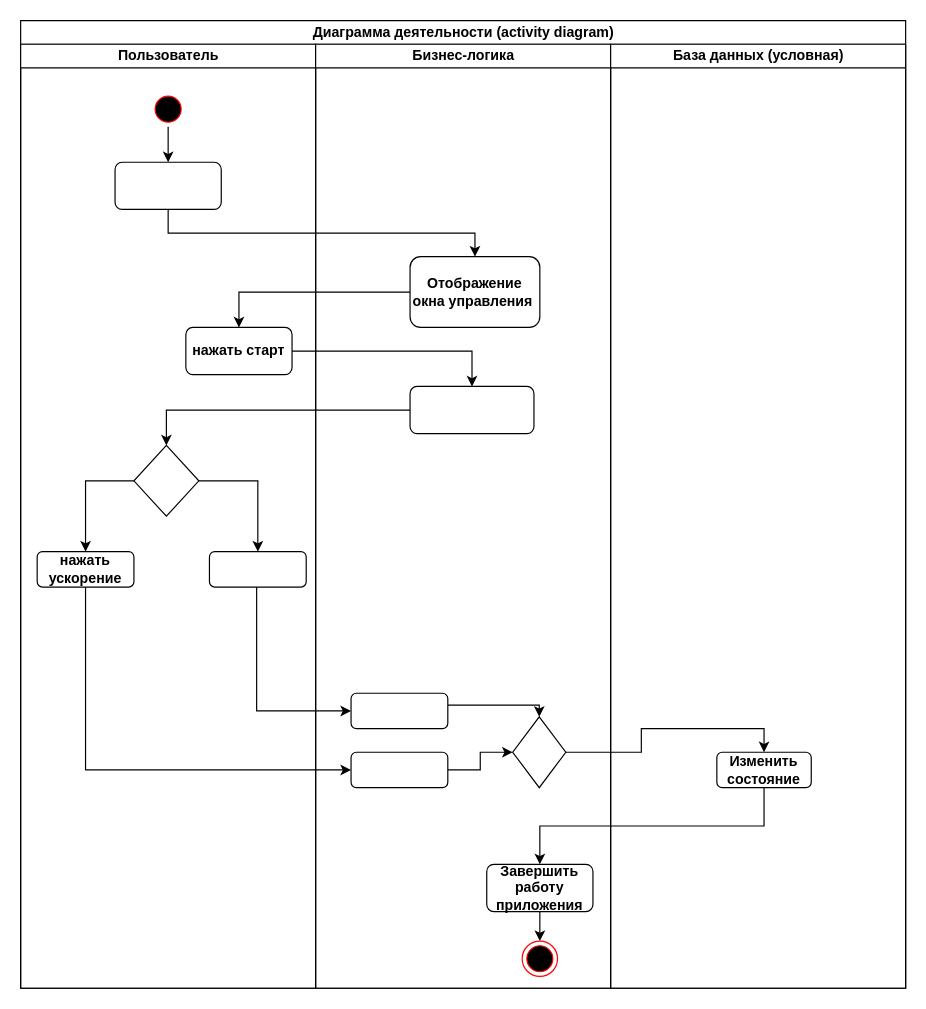
Image size: 926x1009. Some labels were removed from this diagram. Each missing label, with the centre of its shape:
замедлить работу: (x=399, y=710)
Запуск программы: (x=167, y=185)
нажать замедление: (x=257, y=568)
начало работы приложения: (x=471, y=409)
ускорить работу: (x=399, y=769)
